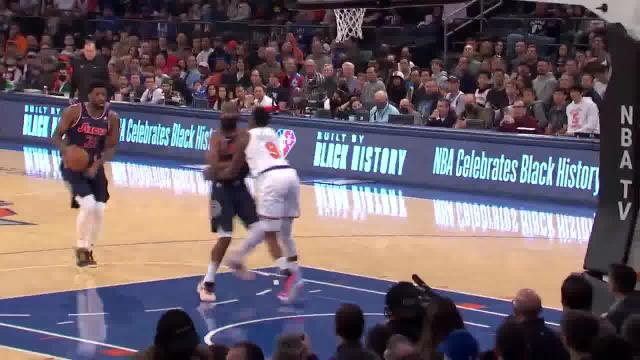ball-handler: (50, 81, 120, 268)
player: (234, 104, 302, 305), (201, 99, 267, 302)
